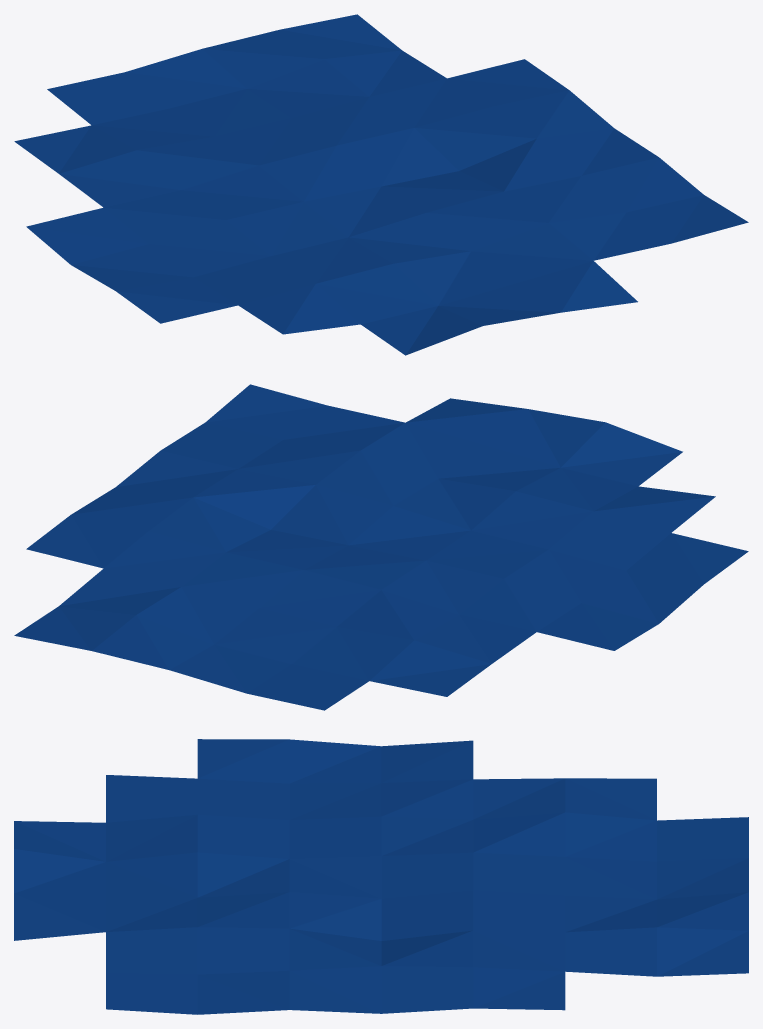
File: DiscWorld03Pond0012.obj
The picture shows the model from 3 angles, top to bottom: view 1: azimuth 30°, elevation 25°; view 2: azimuth 150°, elevation 25°; view 3: azimuth 270°, elevation 25°; orthographic projection. The views are drawn at different scales.
Visible parts, largest first — view 1: Pond; view 2: Pond; view 3: Pond.
Part boxes in pixels (bbox=[...]): Pond: bbox=[14, 14, 748, 355]; Pond: bbox=[14, 384, 748, 710]; Pond: bbox=[14, 739, 748, 1014].
Bounding box in the file's own units: 14 × 0.3492 × 16.
